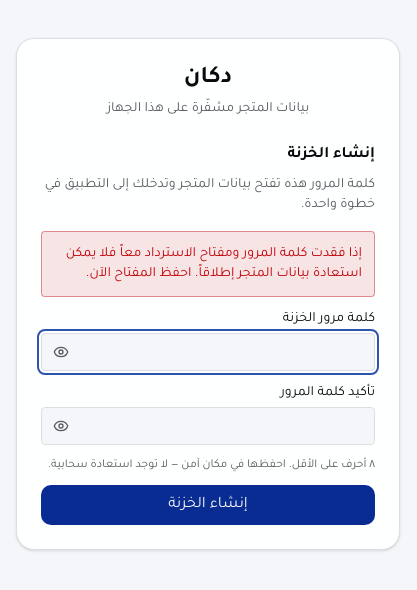
vault gate takes over native validation (issue #109) › editing a blamed field clears the Arabic error and aria-invalid
Click the button "إنشاء الخزنة": point(208, 505) [41, 485, 375, 525]
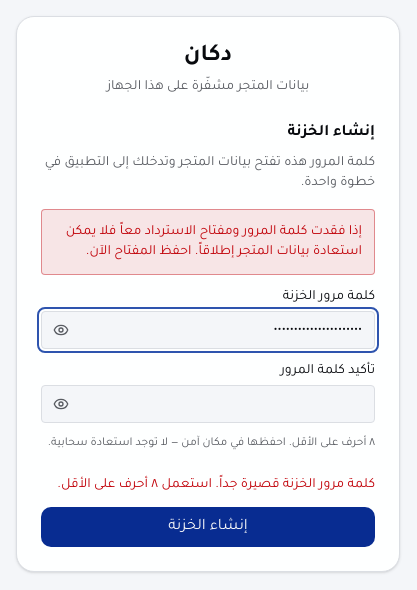
Expected: the message "كلمة مرور الخزنة قصيرة جداً. استعمل ٨ أحرف على الأقل." is shown, [41, 475, 375, 495]
In the password field with test id "vault-passphrase": point(208, 330) [41, 311, 375, 349], type "long enough passphrase"
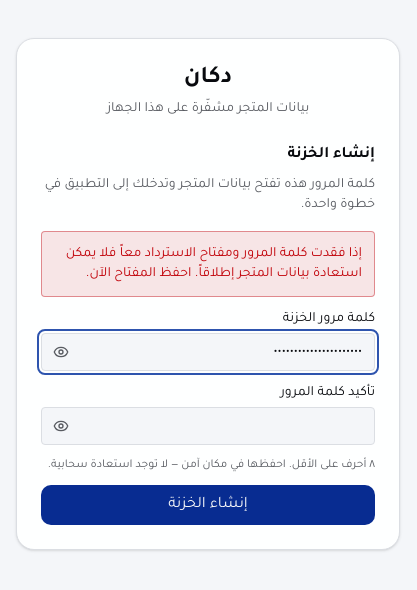
Expected: the message with test id "vault-error" is gone
